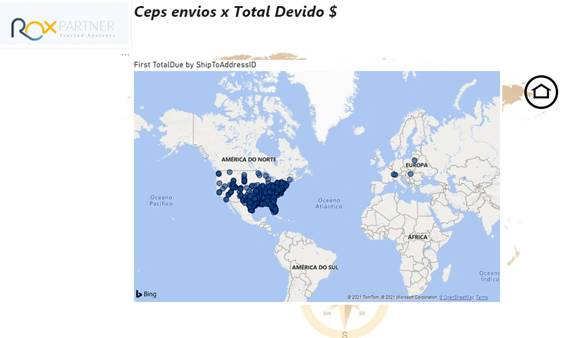

The page's visual inventory and layout, read from the dashboard file:
{"tool":"powerbi","page":{"name":"CEPSENVIO","canvas":[1280,720],"ordinal":1},"visuals":[{"type":"image","box":[0,0,286.5,107.3],"z":0},{"type":"map","fields":{"Category":["SalesOrderHeader.ShipToAddressID"]},"box":[286.5,131.2,781.8,516.5],"z":7},{"type":"textbox","box":[286.5,0,636.5,80.4],"z":1000},{"type":"image","box":[1102.2,155.2,96,88.9],"z":5000}]}

Visuals, with their boxes on the page's 1280x720 design canvas (x1, y1, x2, y2). These are canvas units, not pixel positions in the 567x338 screenshot, which may show the page scaled, cropped or inside an application window:
image: rect(0, 0, 286, 107)
map - SalesOrderHeader.ShipToAddressID: rect(286, 131, 1068, 648)
textbox: rect(286, 0, 923, 80)
image: rect(1102, 155, 1198, 244)
